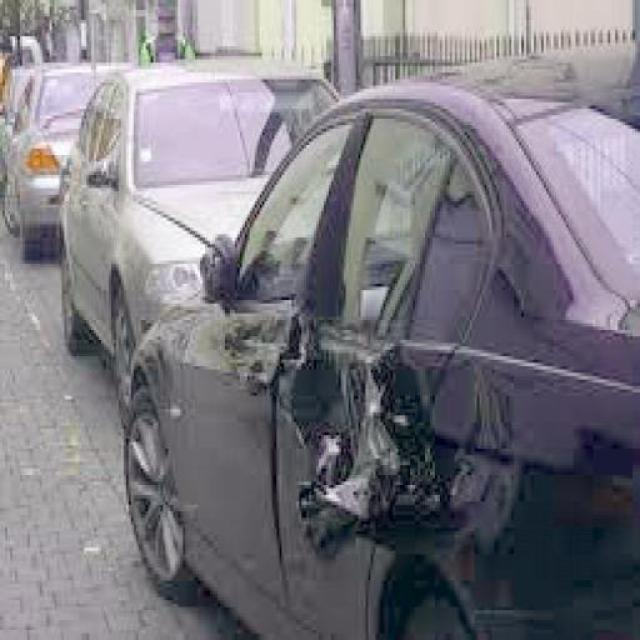car damage: (186, 107, 499, 543)
